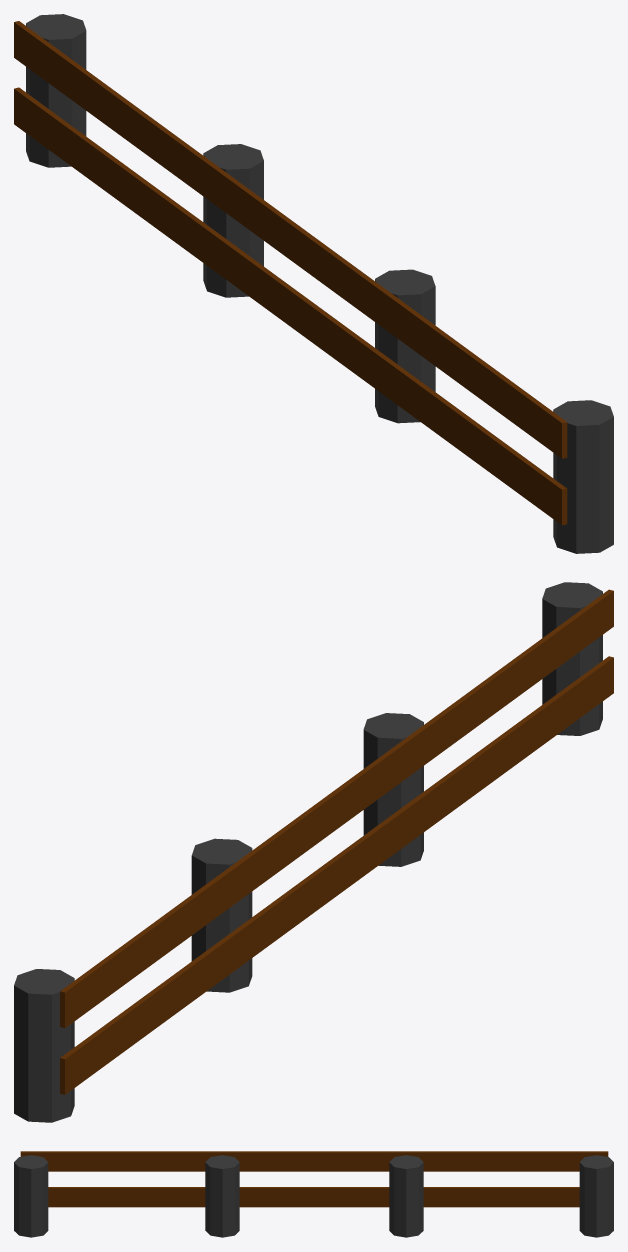
Rendered from fence HW.fbx.
The picture shows the model from 3 angles, top to bottom: view 1: azimuth 30°, elevation 25°; view 2: azimuth 150°, elevation 25°; view 3: azimuth 270°, elevation 25°; orthographic projection. The views are drawn at different scales.
Parts seen in each view (by area): view 1: pCube46; view 2: pCube46; view 3: pCube46.
Part boxes in pixels (x1,y1,x2,y2): pCube46: [14, 14, 613, 553]; pCube46: [14, 582, 613, 1122]; pCube46: [14, 1151, 613, 1237].
Size of the model in its own units: 0.5247 by 1.14 by 8.73.
